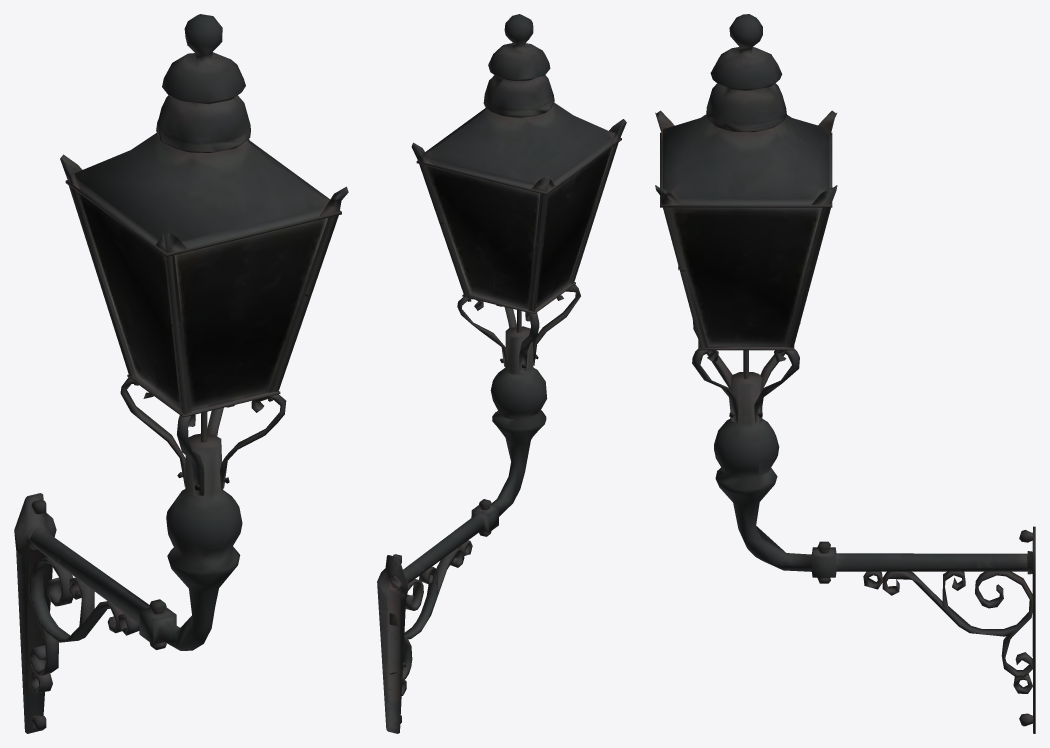
File: street_lamp_02.glb
3 views of the same model, side by side, from view 1: azimuth 30°, elevation 25°; view 2: azimuth 150°, elevation 25°; view 3: azimuth 270°, elevation 25° (orthographic). The views are drawn at different scales.
Visible parts, largest first — view 1: street_lamp_02; view 2: street_lamp_02; view 3: street_lamp_02.
Part boxes in pixels (x1,y1,x2,y2): street_lamp_02: (14, 14, 348, 733); street_lamp_02: (377, 14, 626, 733); street_lamp_02: (655, 14, 1035, 733).
Size of the model in its own units: 0.3861 by 1.67 by 0.8066.
Materials: 2 (2 with a texture image).
